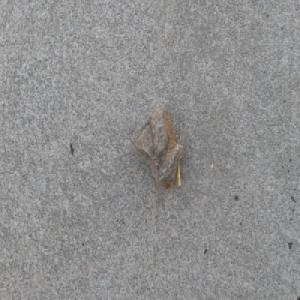Rock: (131, 101, 183, 191)
